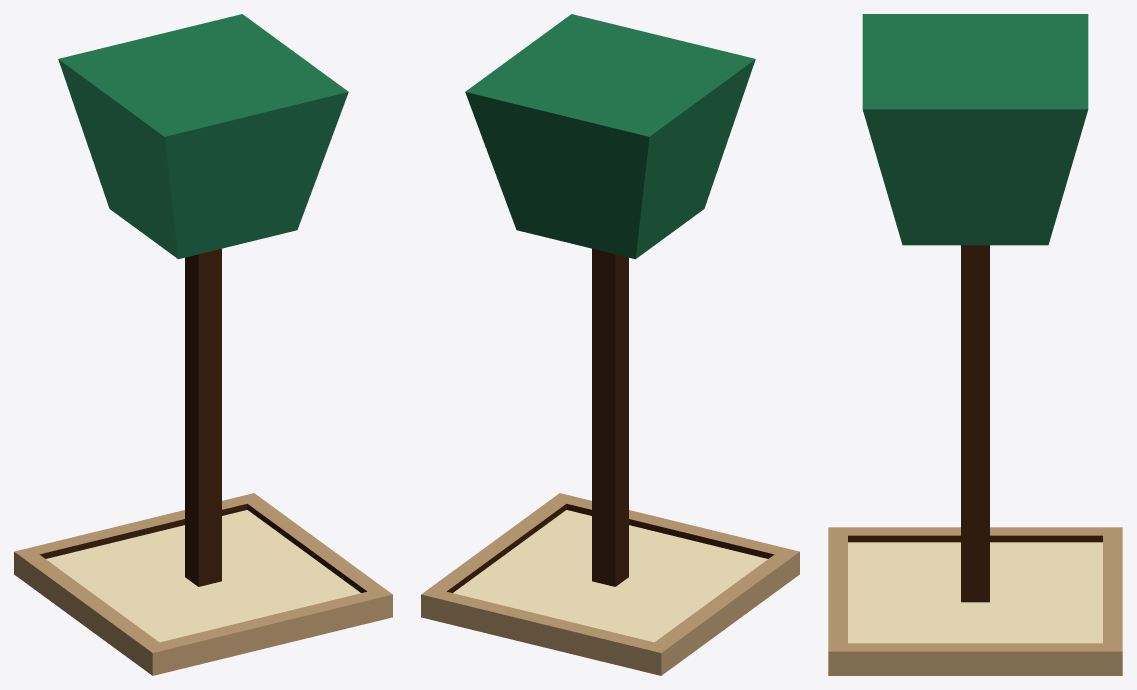
Rendered from small_tree.fbx.
3 views of the same model, side by side, from view 1: azimuth 30°, elevation 25°; view 2: azimuth 150°, elevation 25°; view 3: azimuth 270°, elevation 25° (orthographic). The views are drawn at different scales.
Visible parts, largest first — view 1: Cube; view 2: Cube; view 3: Cube.
Part boxes in pixels (bbox=[...]): Cube: bbox=[14, 14, 392, 675]; Cube: bbox=[421, 14, 799, 675]; Cube: bbox=[828, 14, 1122, 675].
Bounding box in the file's own units: 150 × 311 × 150.
